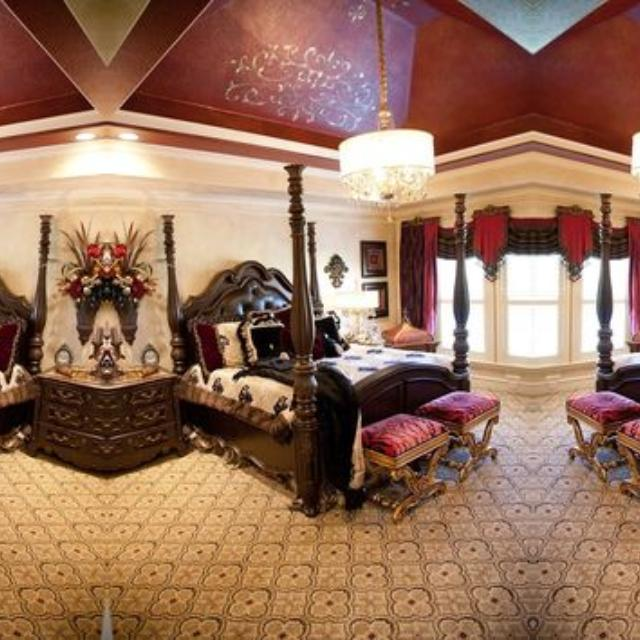bed: (164, 165, 468, 512)
curtain: (401, 218, 455, 334), (466, 206, 516, 281), (549, 206, 599, 281), (611, 218, 640, 334)
dresser: (106, 375, 177, 469), (35, 375, 106, 469)
plant: (106, 222, 155, 344), (57, 222, 106, 344)
